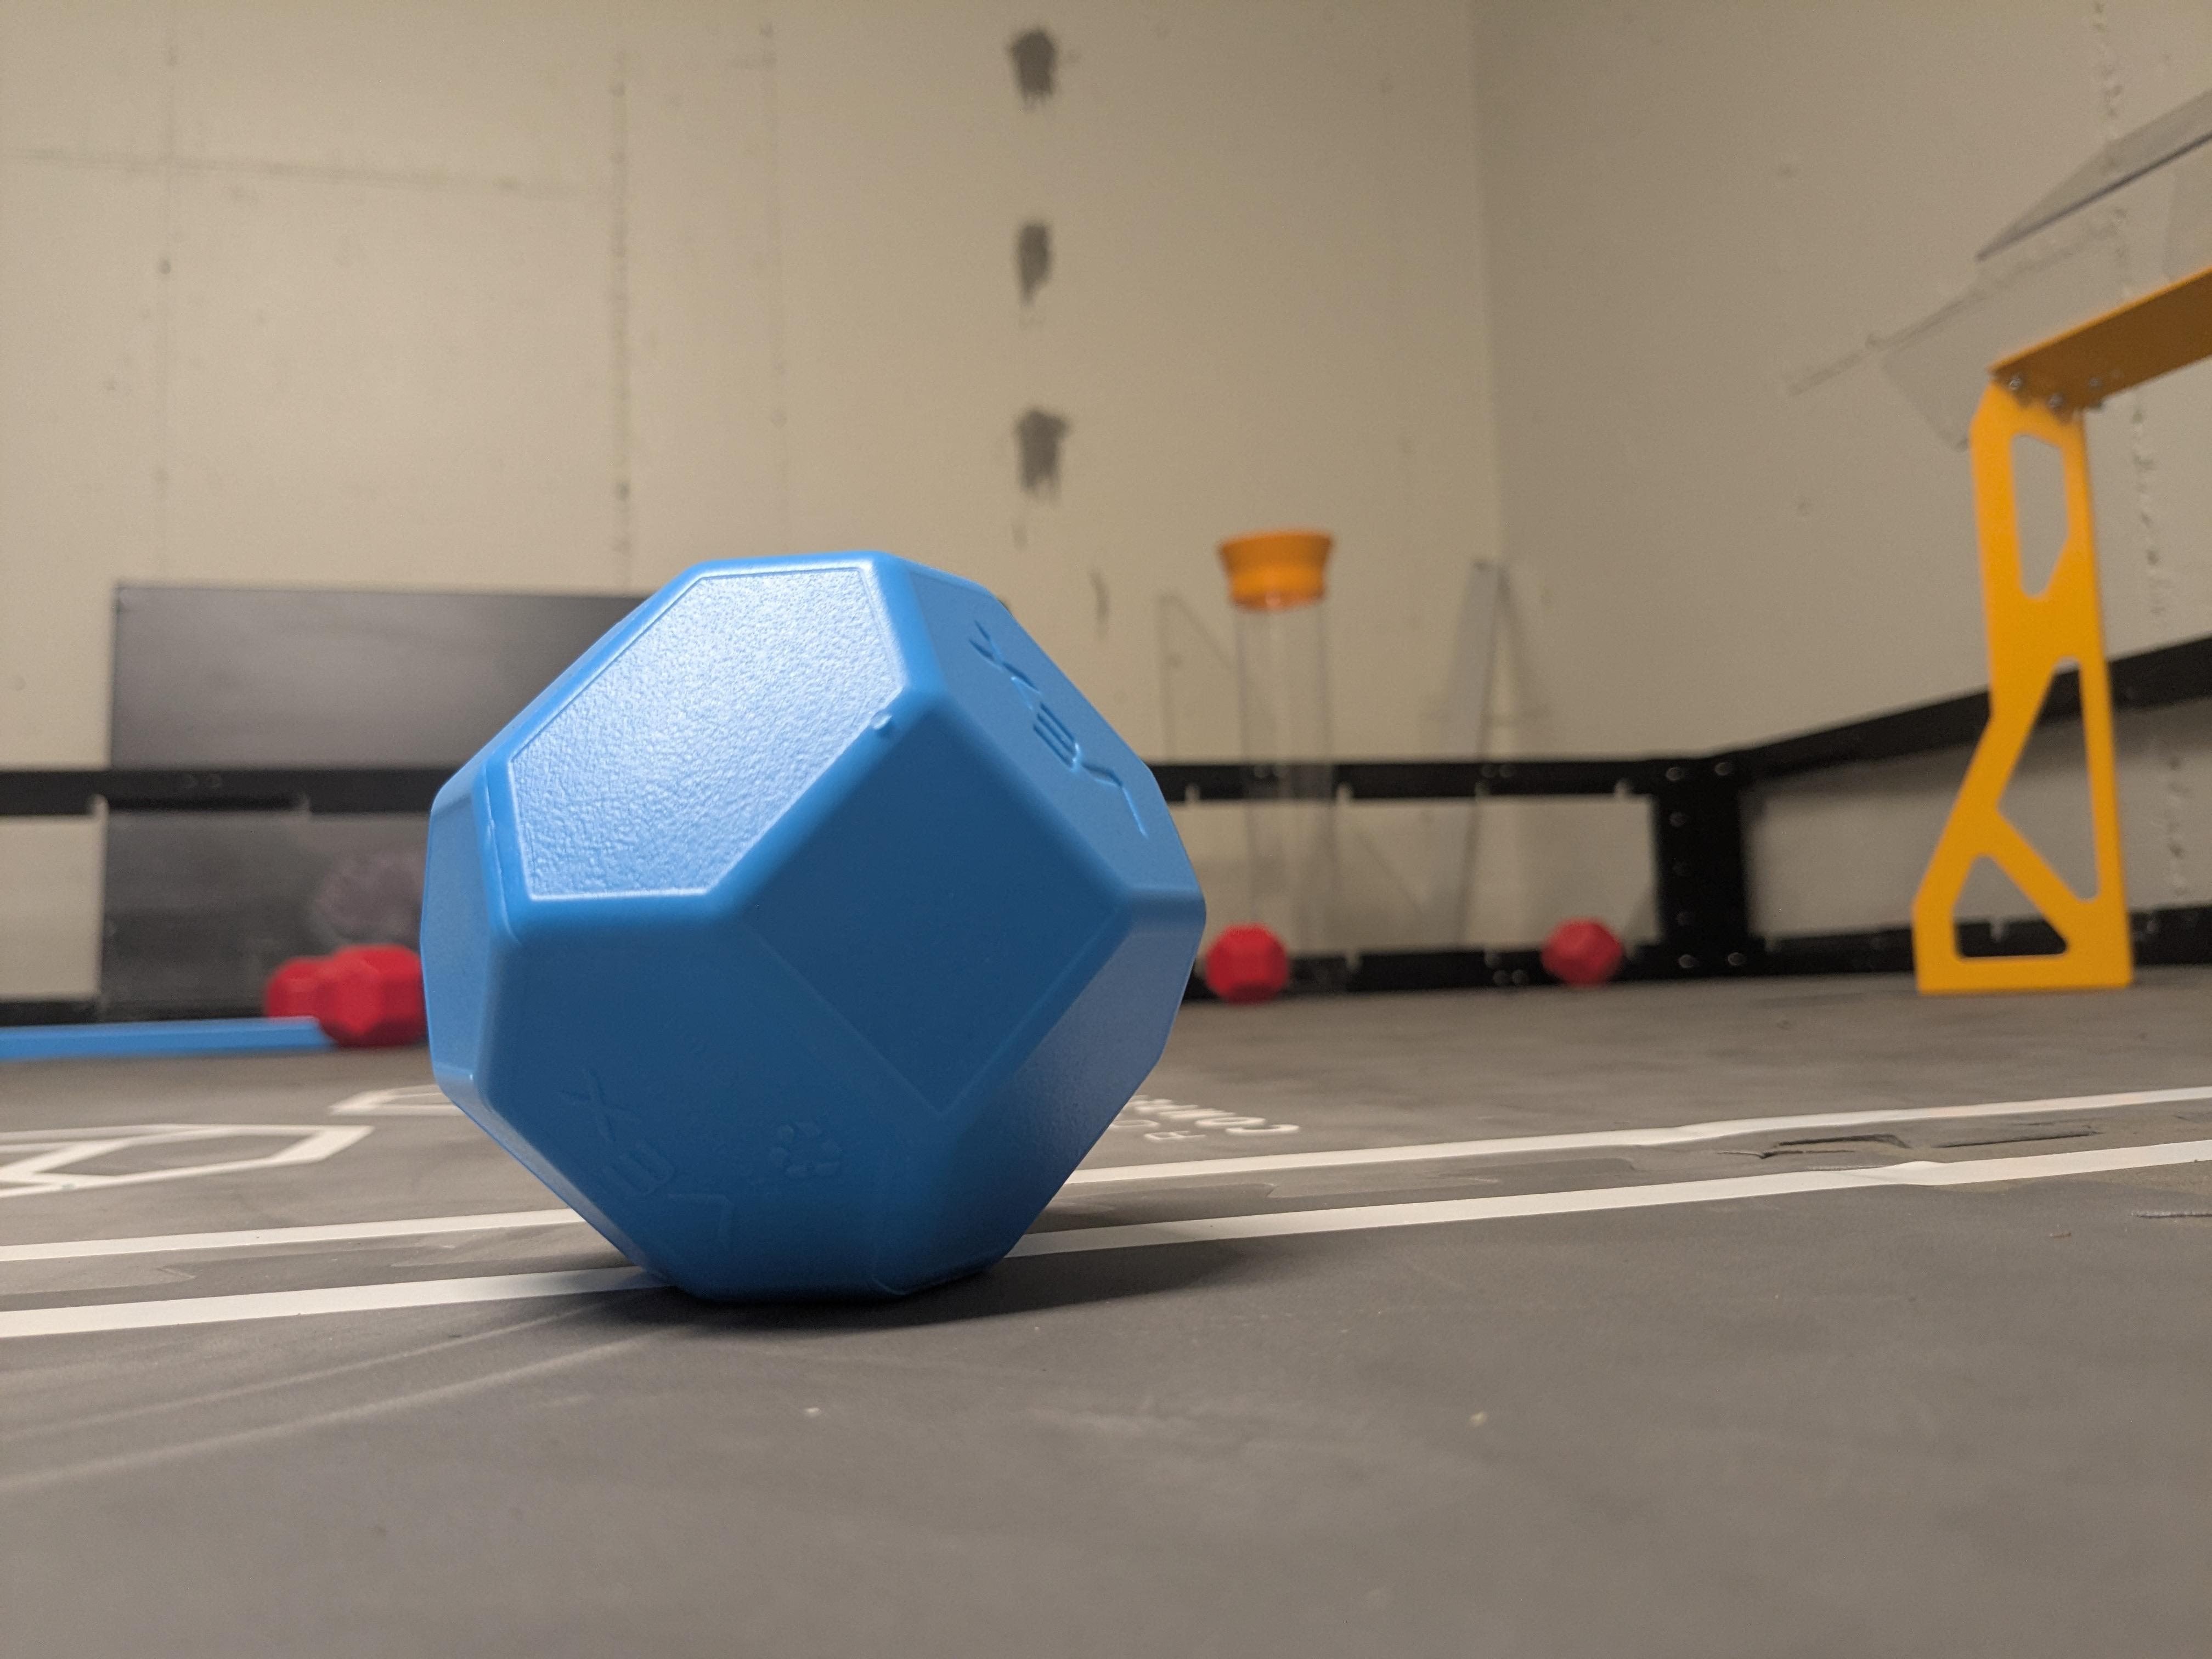Vex-Pieces-BLUE: (421, 552, 1204, 1298)
